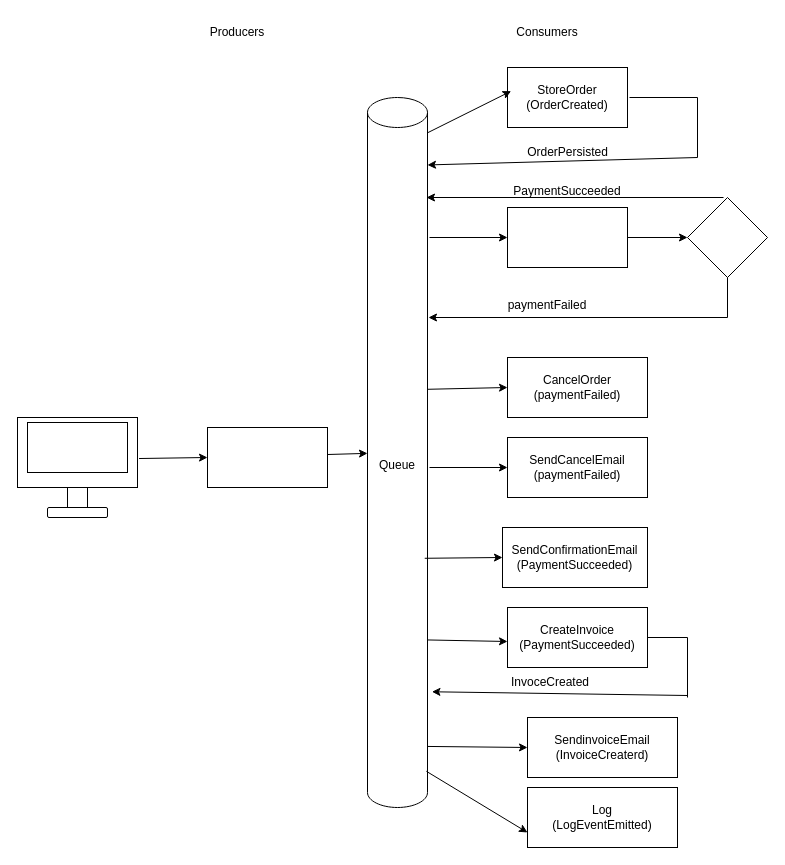
Some shapes in this 785 by 865 pixel diagram are drawn without their labels. The centre of each missing label's shape, as x and y in pixels:
"Done Failed" belongs at (727,237).
"Order API HTTP server [OrderCreated]" belongs at (267,457).
"Payment (OrderPersisted)" belongs at (567,237).
"www.shop.com" belongs at (77,447).
